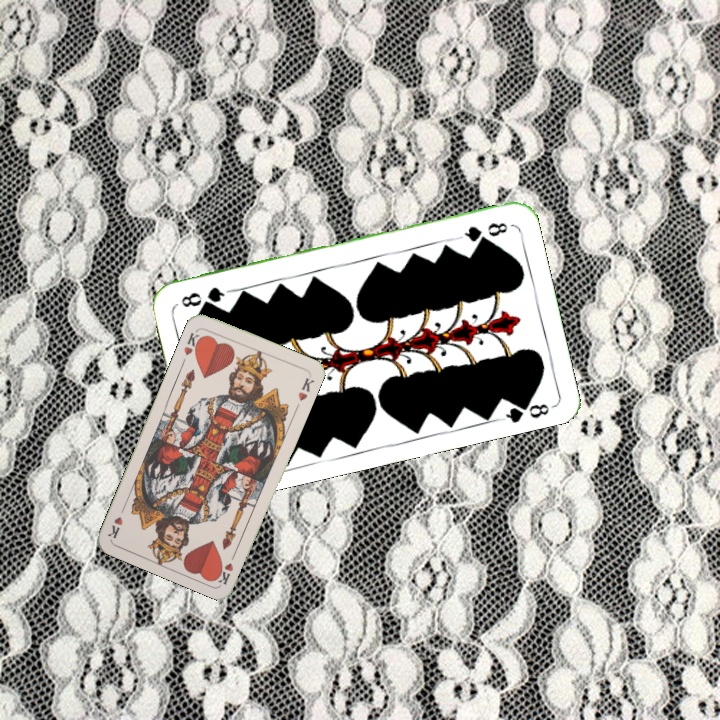G8: (454, 218, 510, 245)
HK: (214, 547, 239, 586), (180, 328, 205, 358)
